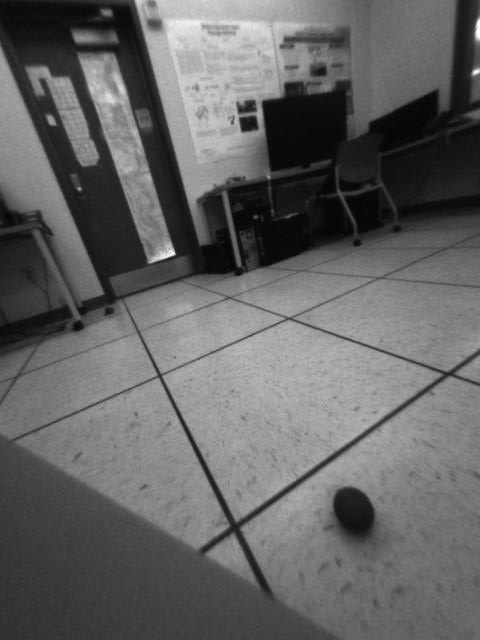dogtoy: (325, 480, 385, 543)
